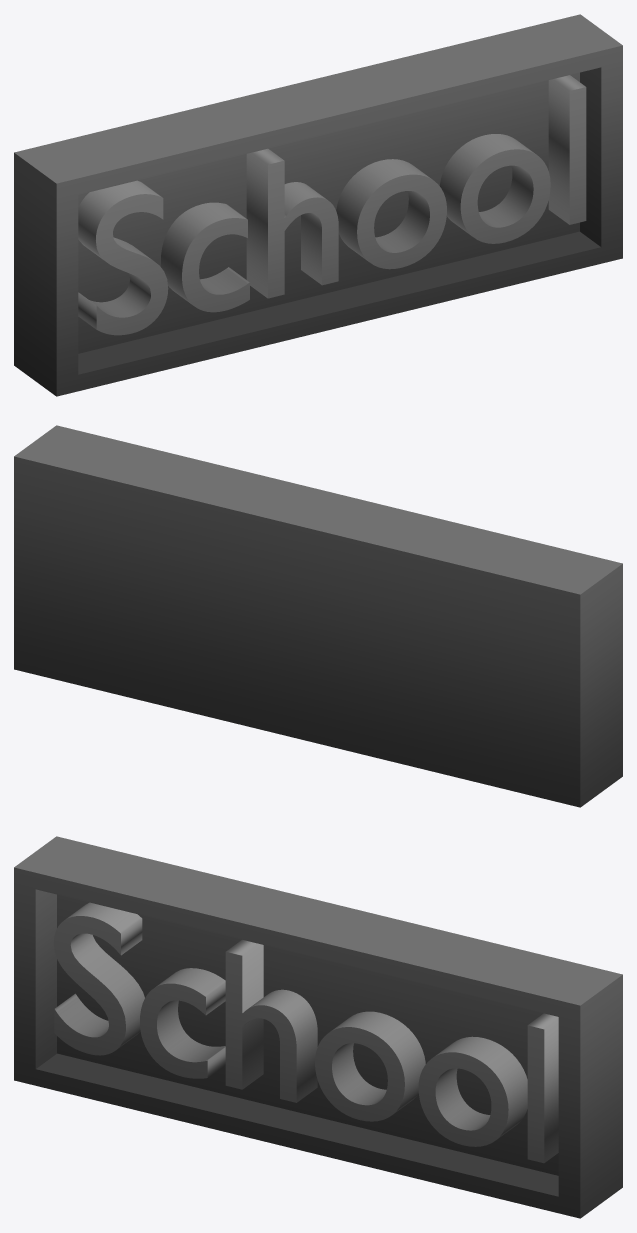
Rendered from School_banner.fbx.
3 renders of one model, top to bottom at view 1: azimuth 30°, elevation 25°; view 2: azimuth 150°, elevation 25°; view 3: azimuth 330°, elevation 25°, orthographic.
Visible parts, largest first — view 1: Text; view 2: Text; view 3: Text.
Part boxes in pixels (x1,y1,x2,y2): Text: (14,14,622,396); Text: (14,425,622,807); Text: (14,836,622,1218).
Size of the model in its own units: 302 by 108 by 39.28.
